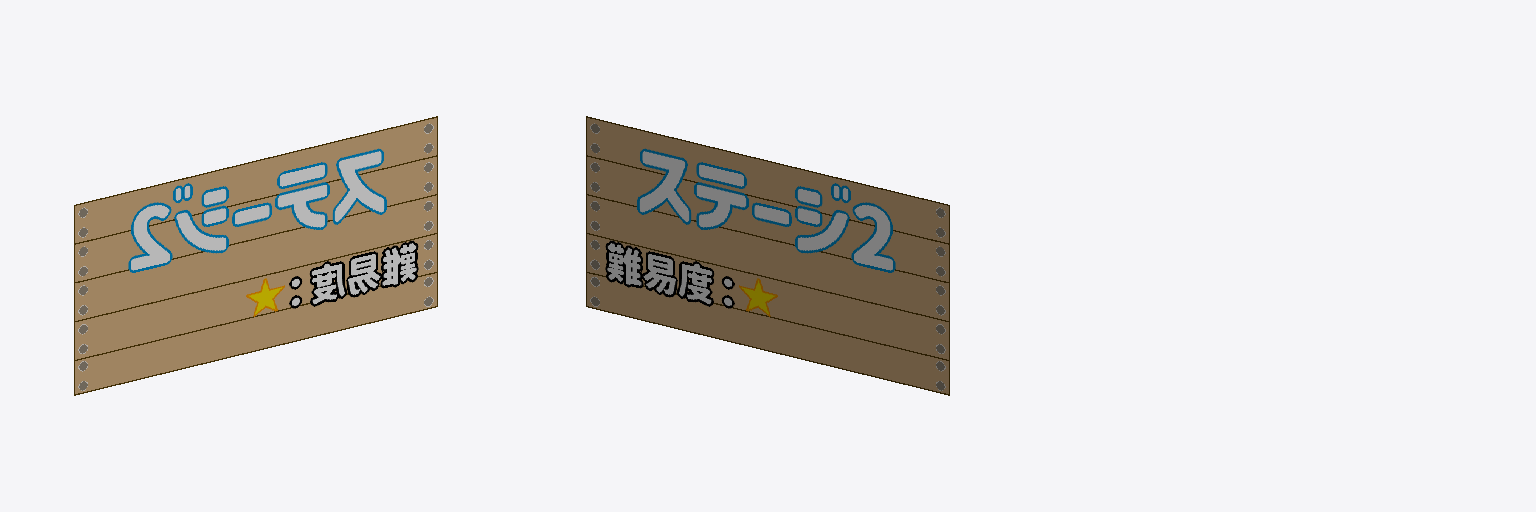
3 views of the same model, side by side, from view 1: azimuth 30°, elevation 25°; view 2: azimuth 150°, elevation 25°; view 3: azimuth 270°, elevation 25° (orthographic).
Visible parts, largest first — view 1: 平面; view 2: 平面; view 3: none.
Boxes of the visible parts, box(x1,y1,x2,y2) form: 平面: box(74, 116, 437, 395); 平面: box(586, 116, 949, 395).
Size of the model in its own units: 4 by 2 by 0.
1 materials, 1 textured.